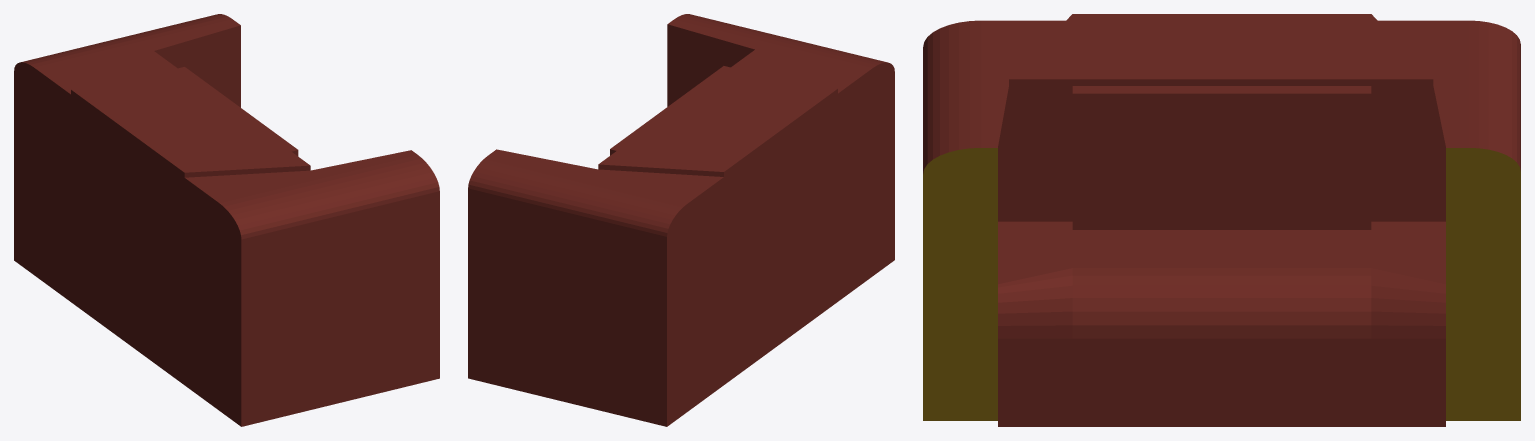
The model's file is couch.glb.
3 renders of one model, left to right at view 1: azimuth 30°, elevation 25°; view 2: azimuth 150°, elevation 25°; view 3: azimuth 270°, elevation 25°, orthographic. The views are drawn at different scales.
Visible parts, largest first — view 1: Cube; view 2: Cube; view 3: Cube.
Boxes of the visible parts, x1,y1,x2,y2 form: Cube: (14,14,439,426); Cube: (468,14,894,426); Cube: (923,14,1520,426).
Size of the model in its own units: 2.1 by 2.05 by 3.97.
